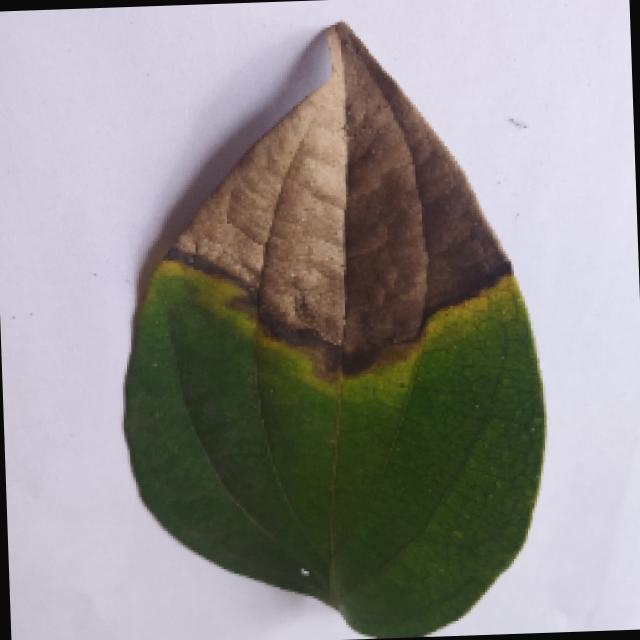footrot: (59, 11, 620, 634)
